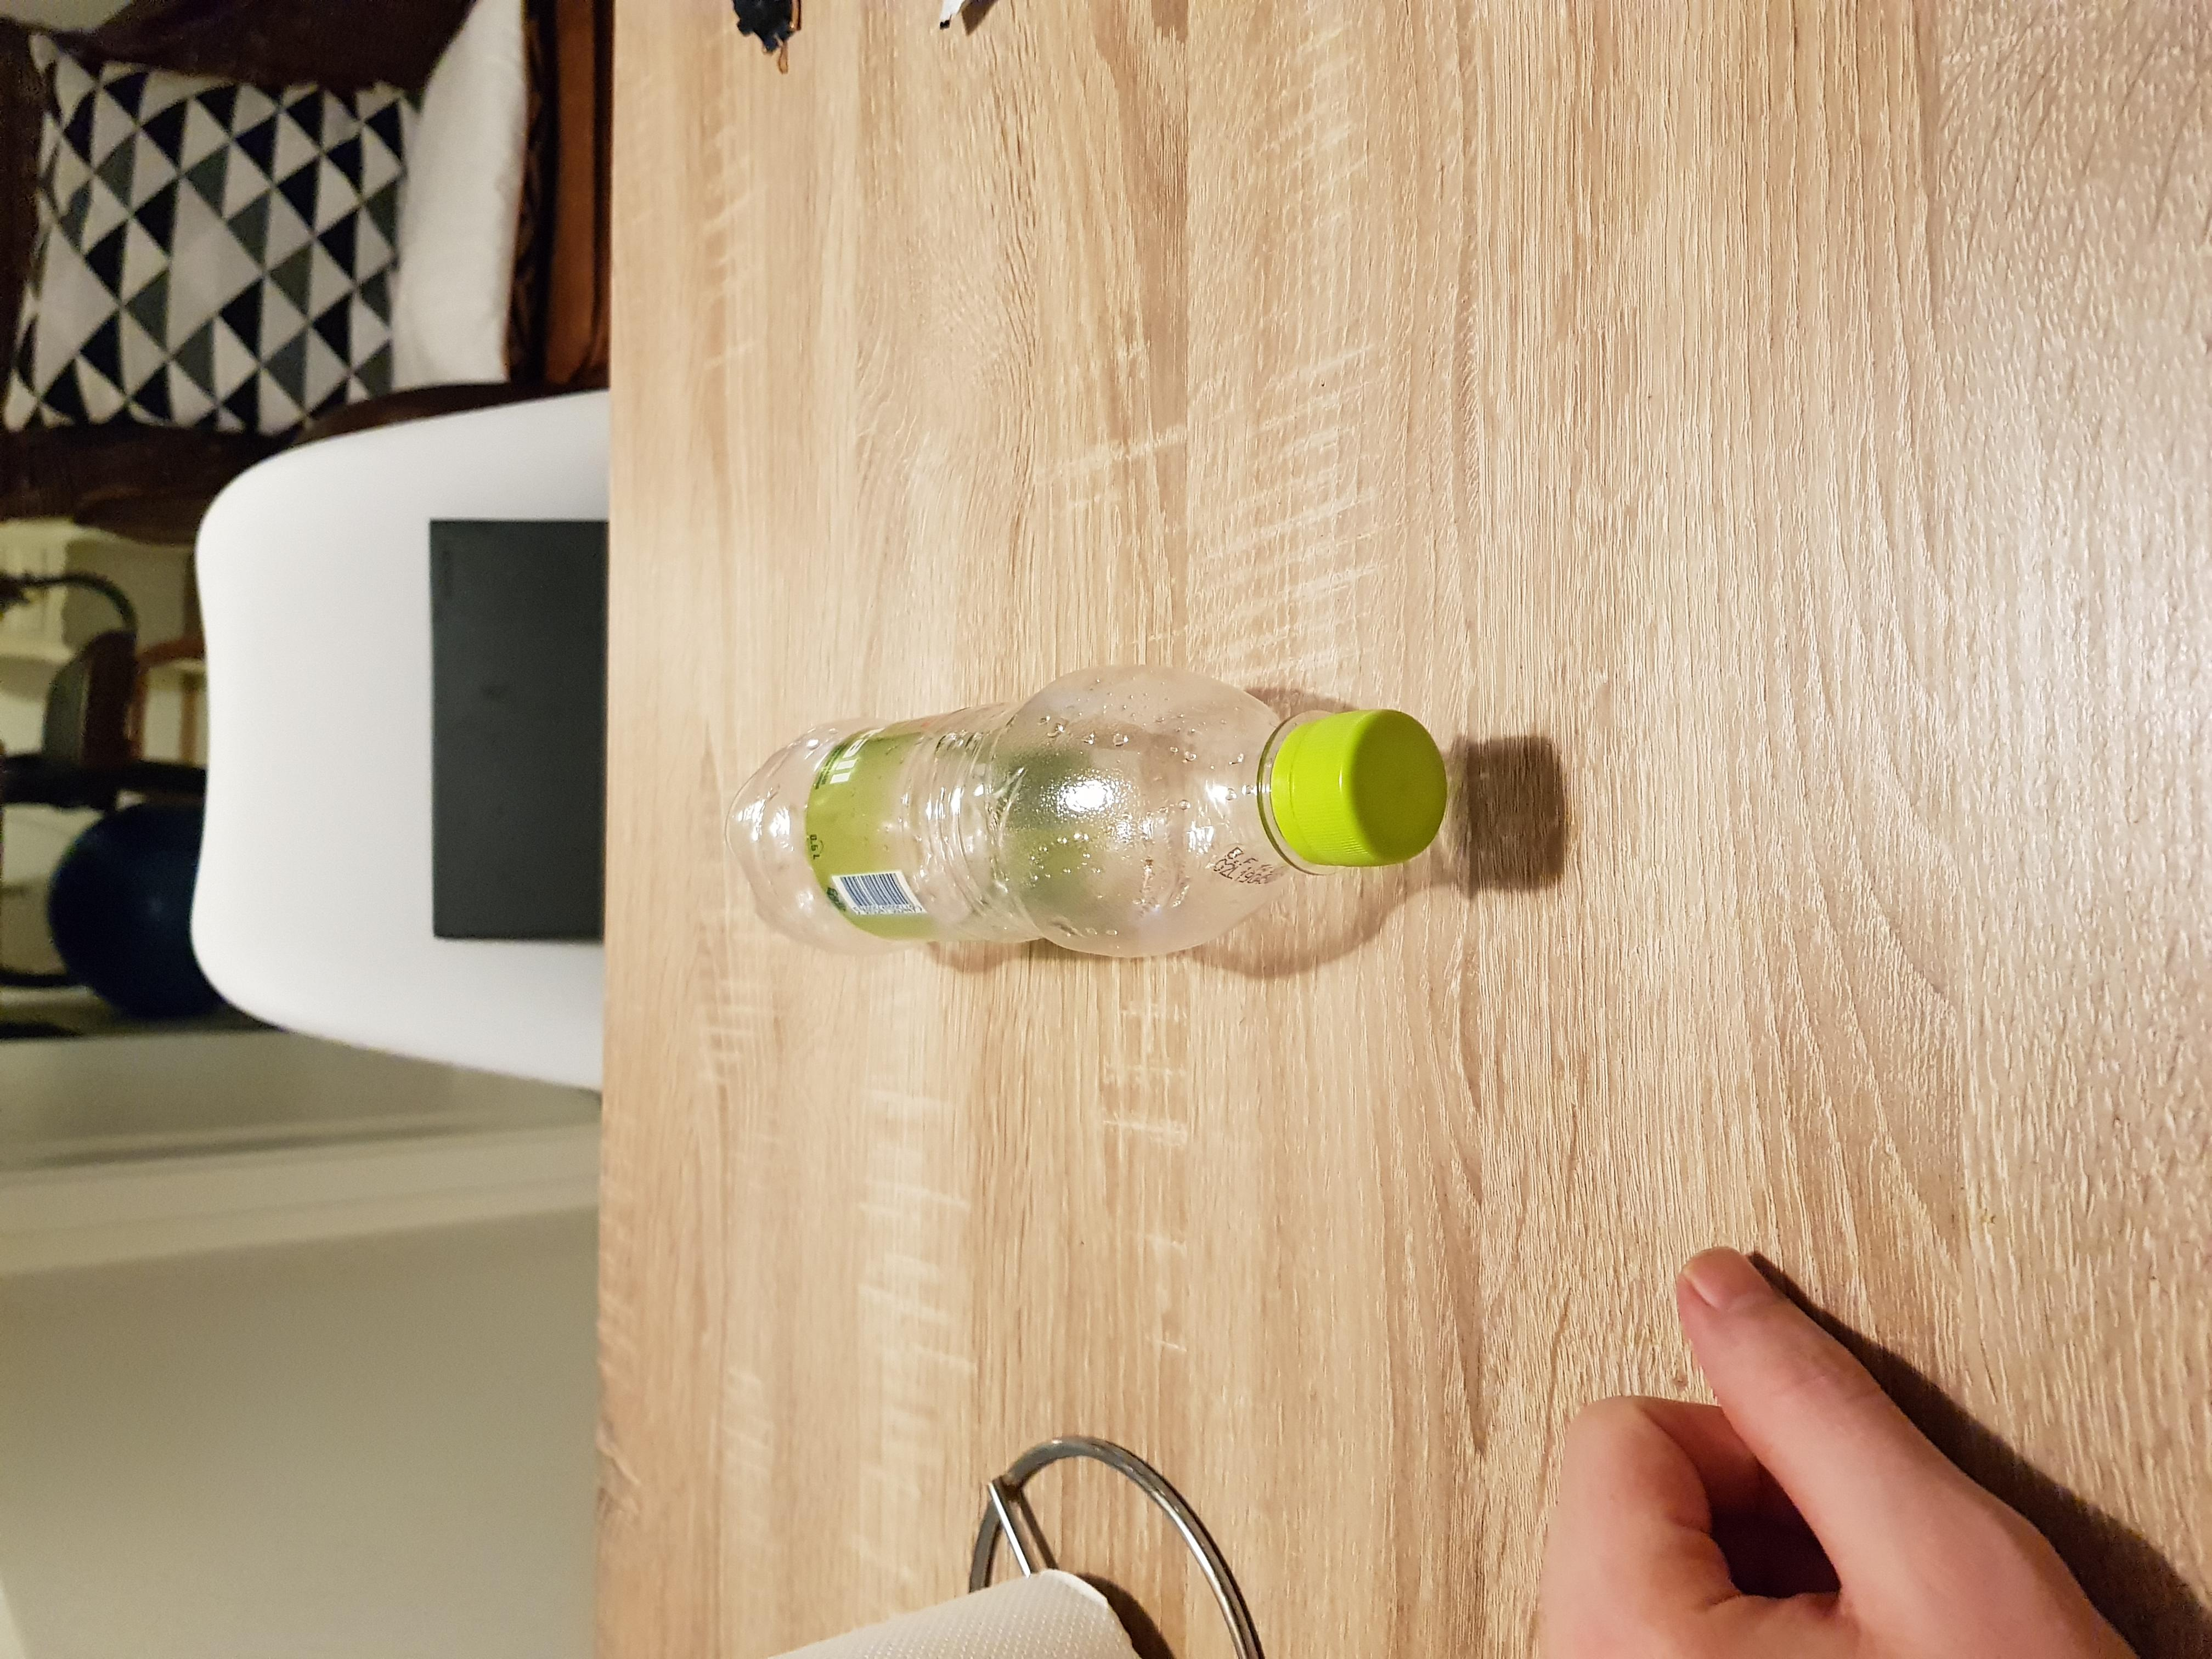bottle: (716, 653, 1458, 972)
